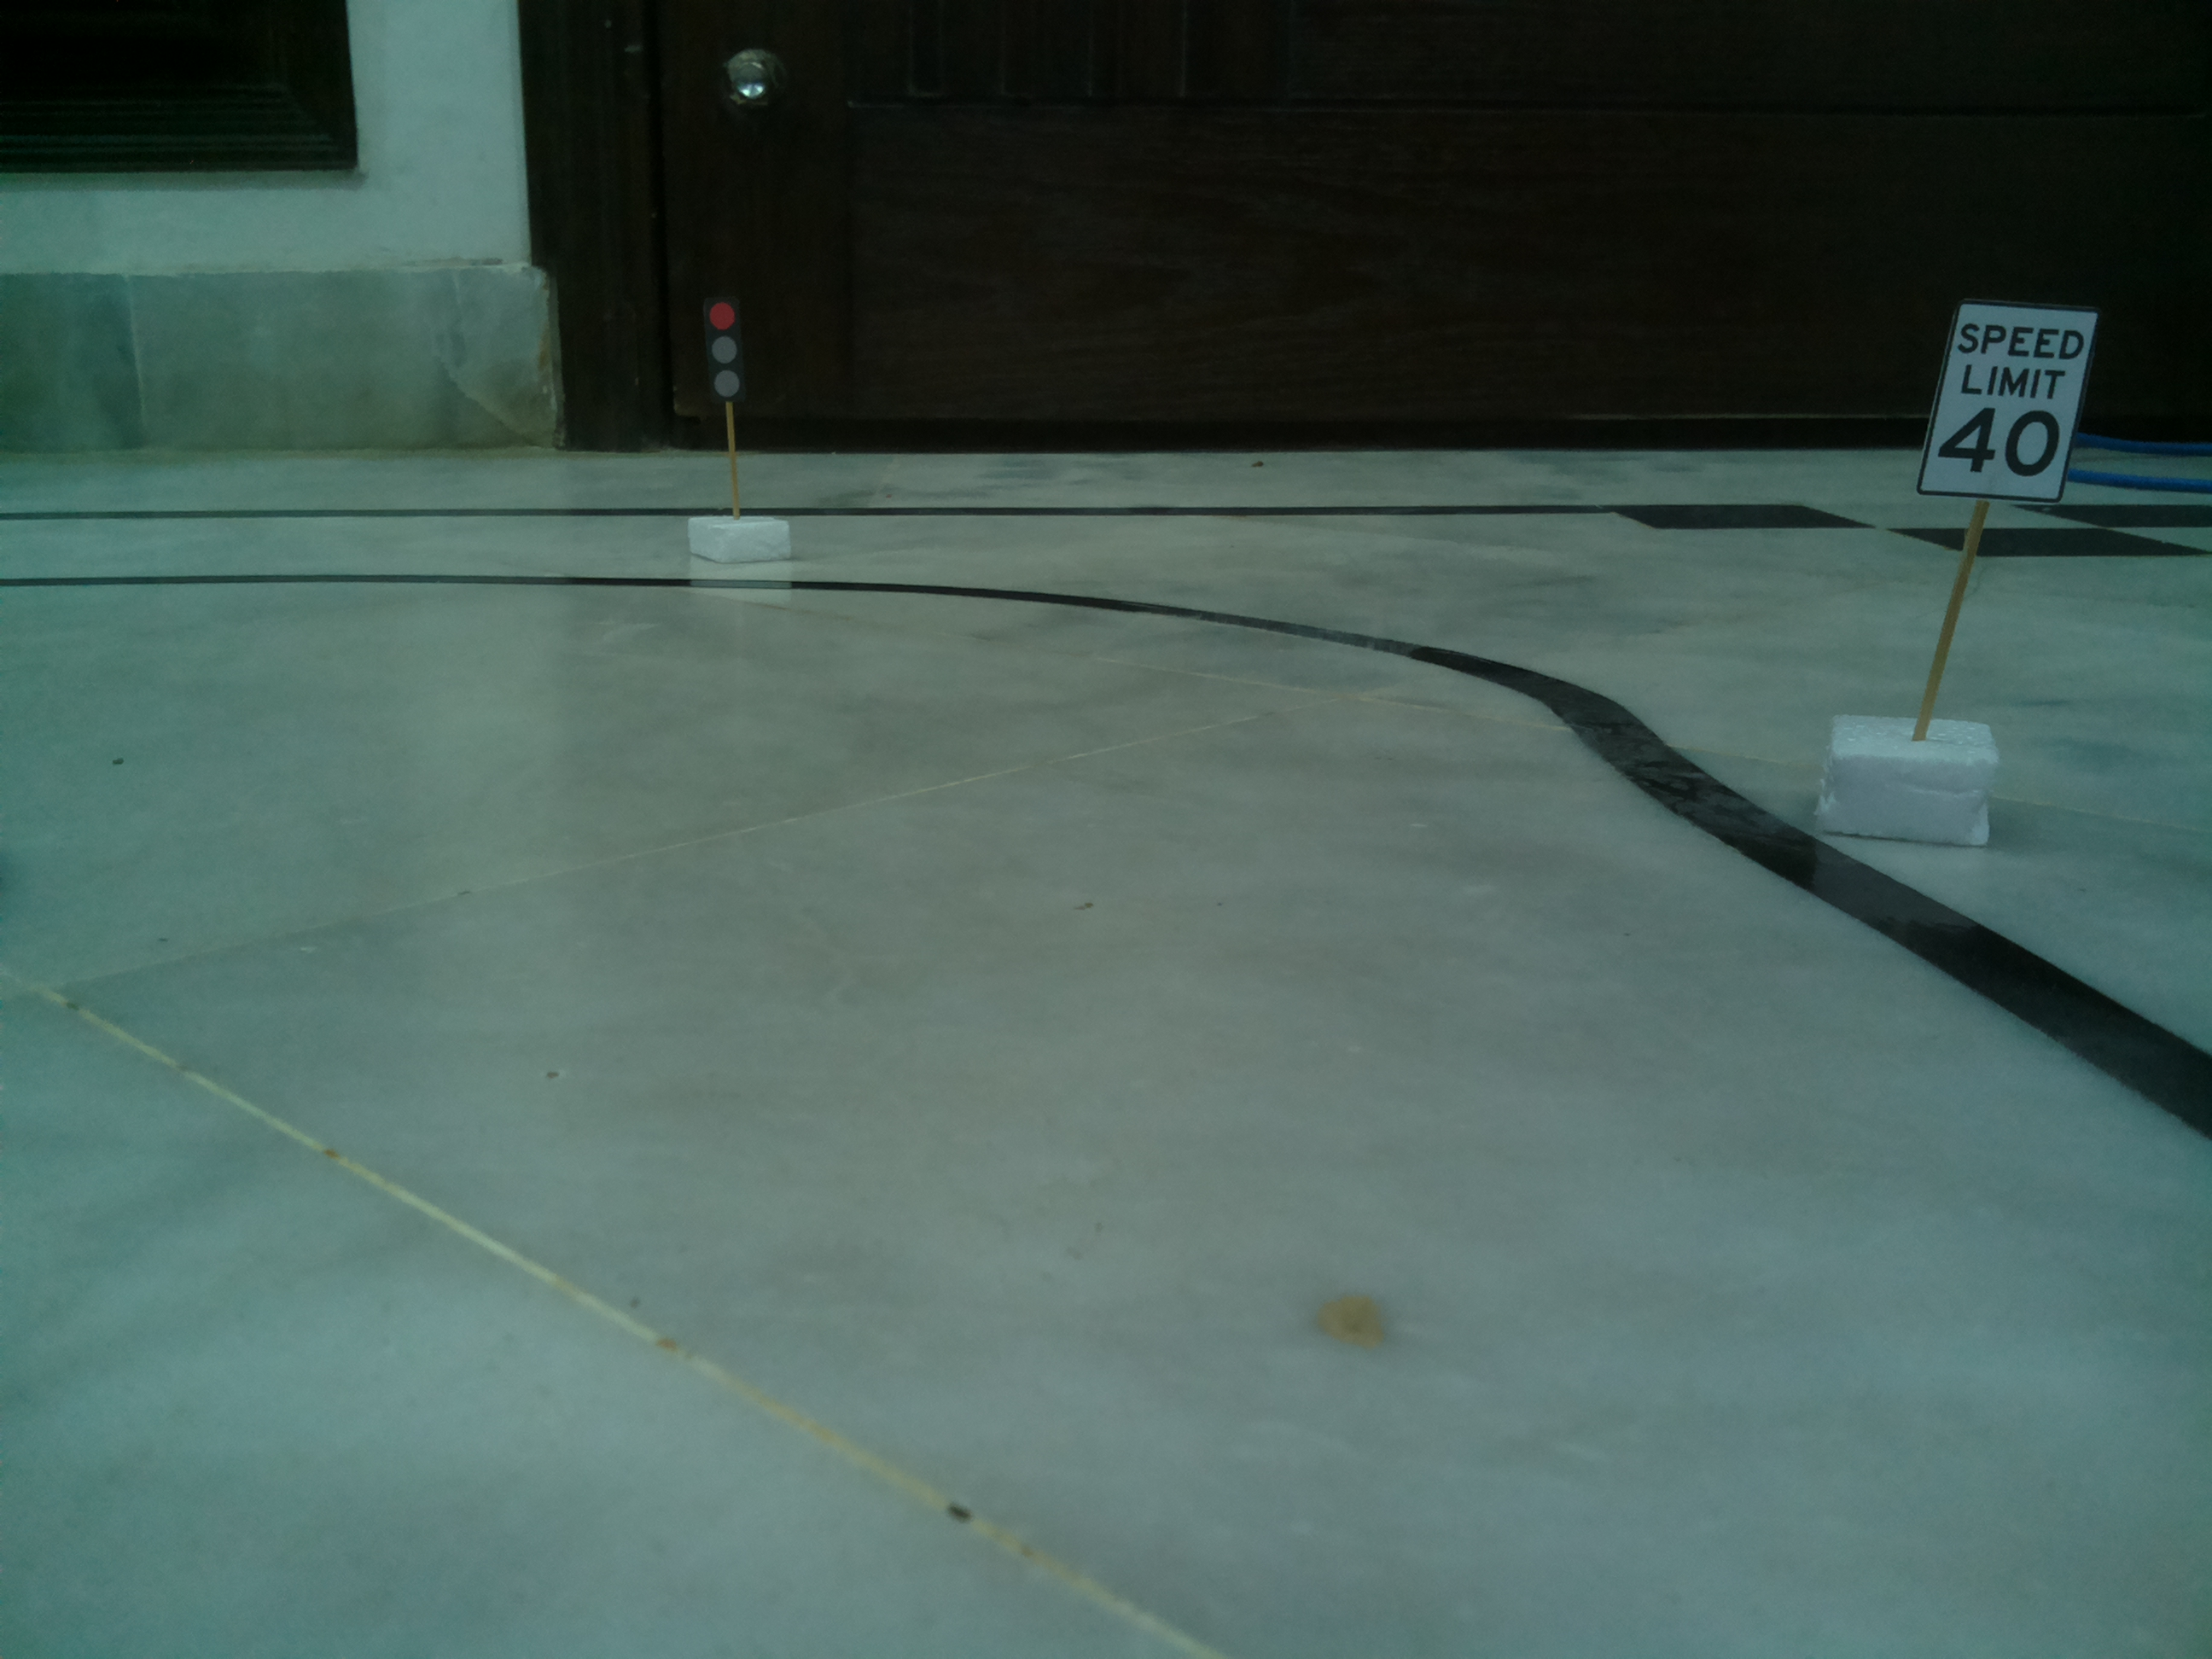Red traffic light: (693, 284, 756, 418)
Speed limit 40: (1909, 296, 2113, 511)
